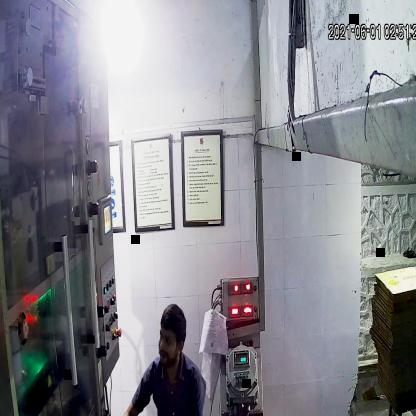no_goggles: (155, 324, 182, 350)
